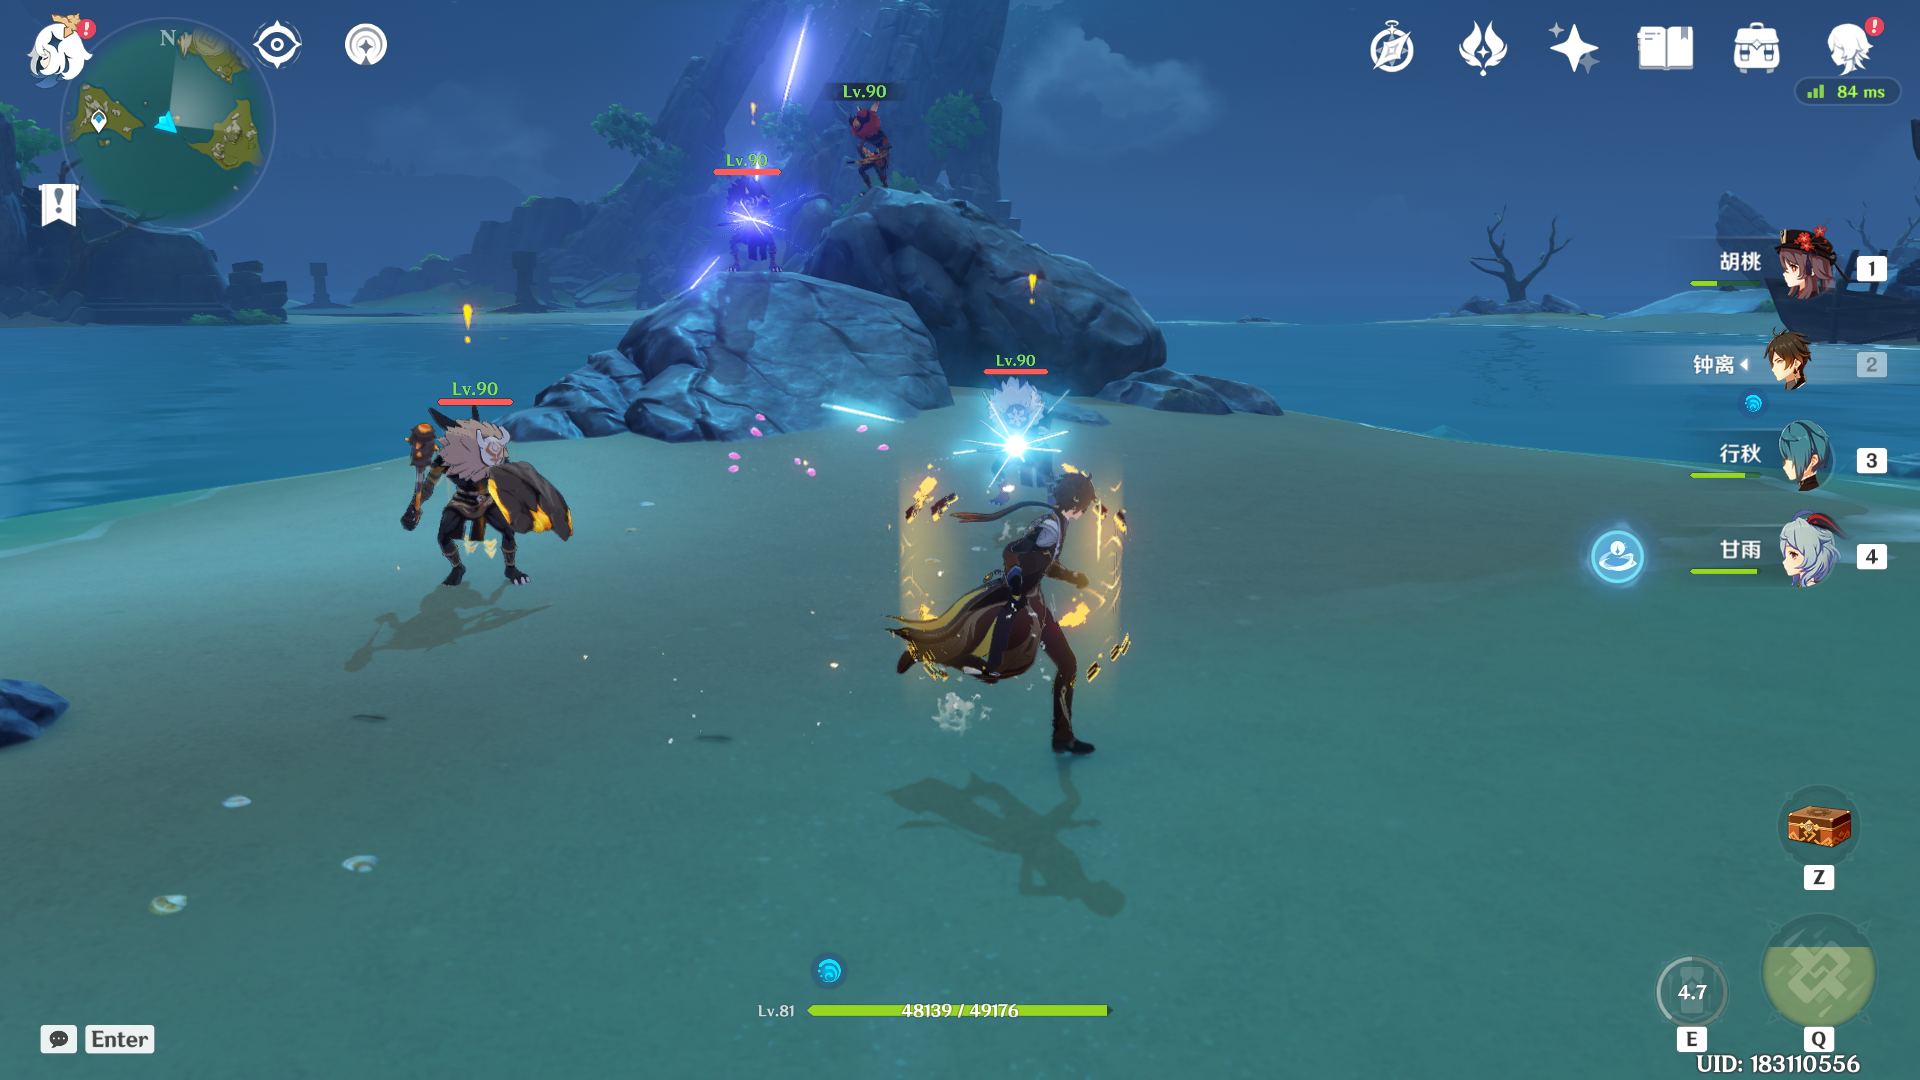character: (870, 430, 1145, 767)
hili: (371, 371, 611, 662), (938, 324, 1122, 525), (698, 152, 815, 270), (820, 88, 934, 199)
